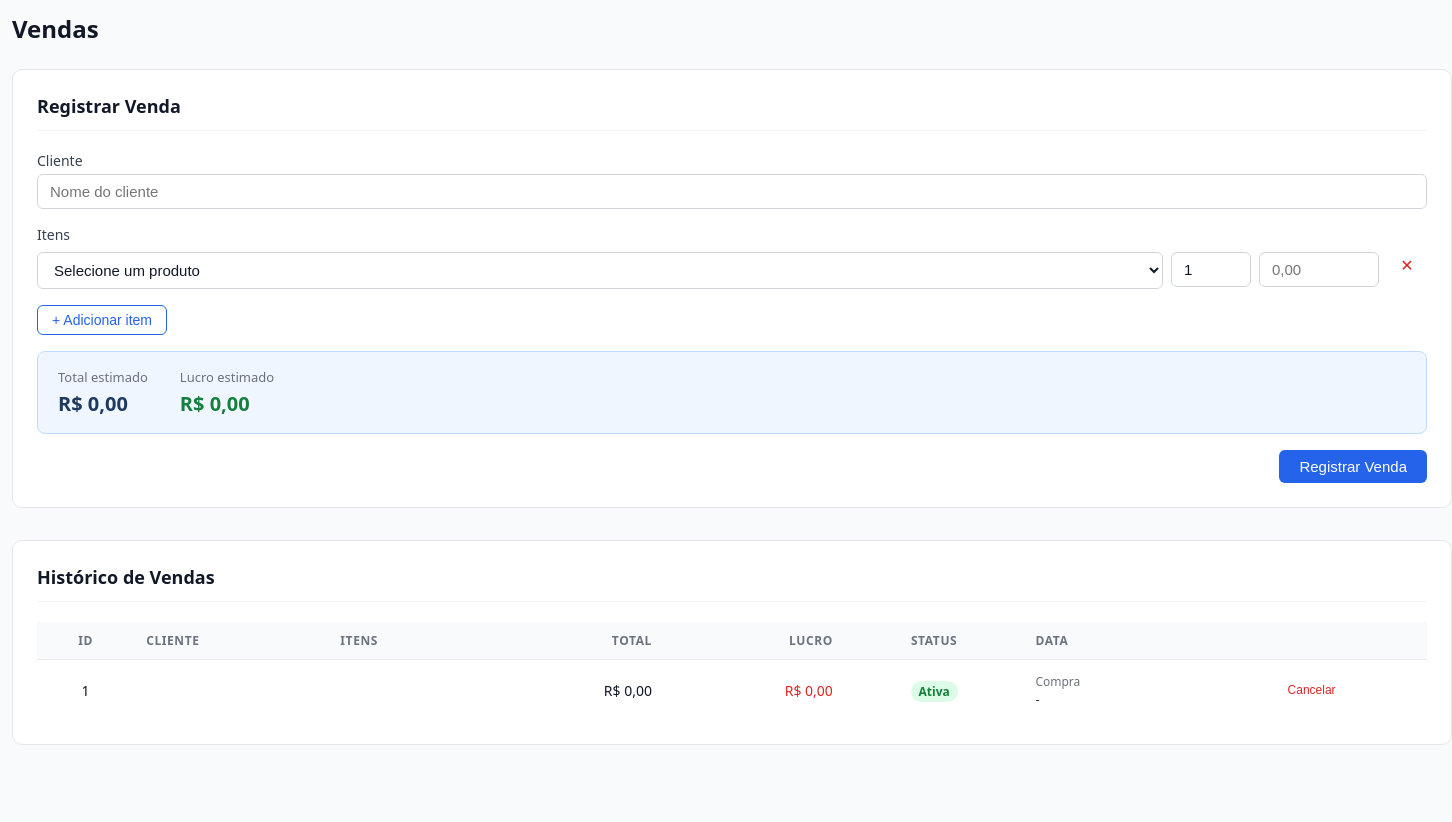
Scenario: VendasView › valida cliente com menos de 2 caracteres antes de submeter
The image size is (1452, 822).
Step 1. Type "A" into the field with test id "input-cliente" → (732, 192), box [37,174,1427,209]
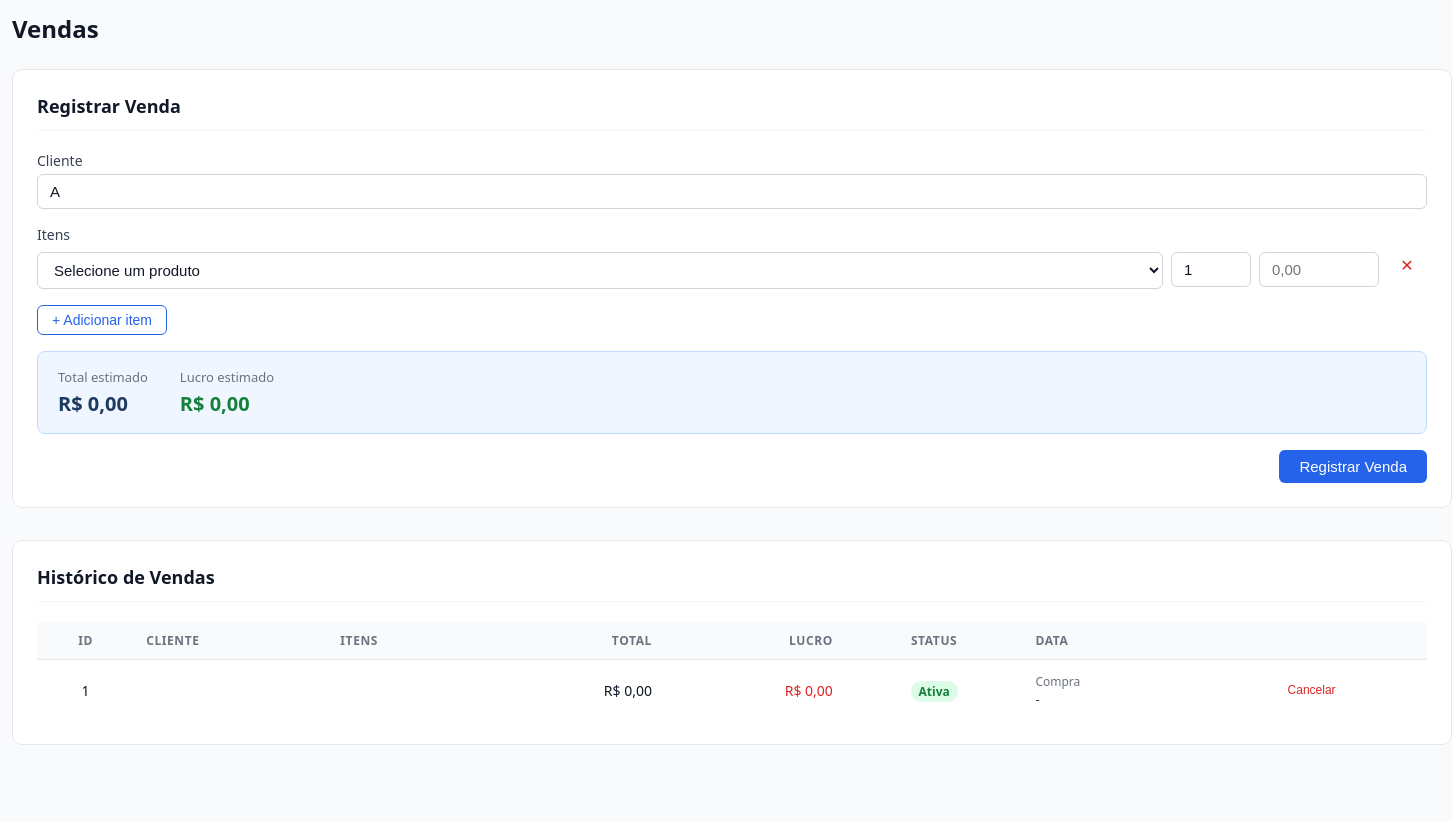
Step 2. Click the button with test id "btn-registrar" → (1353, 466), box [1279,450,1427,483]
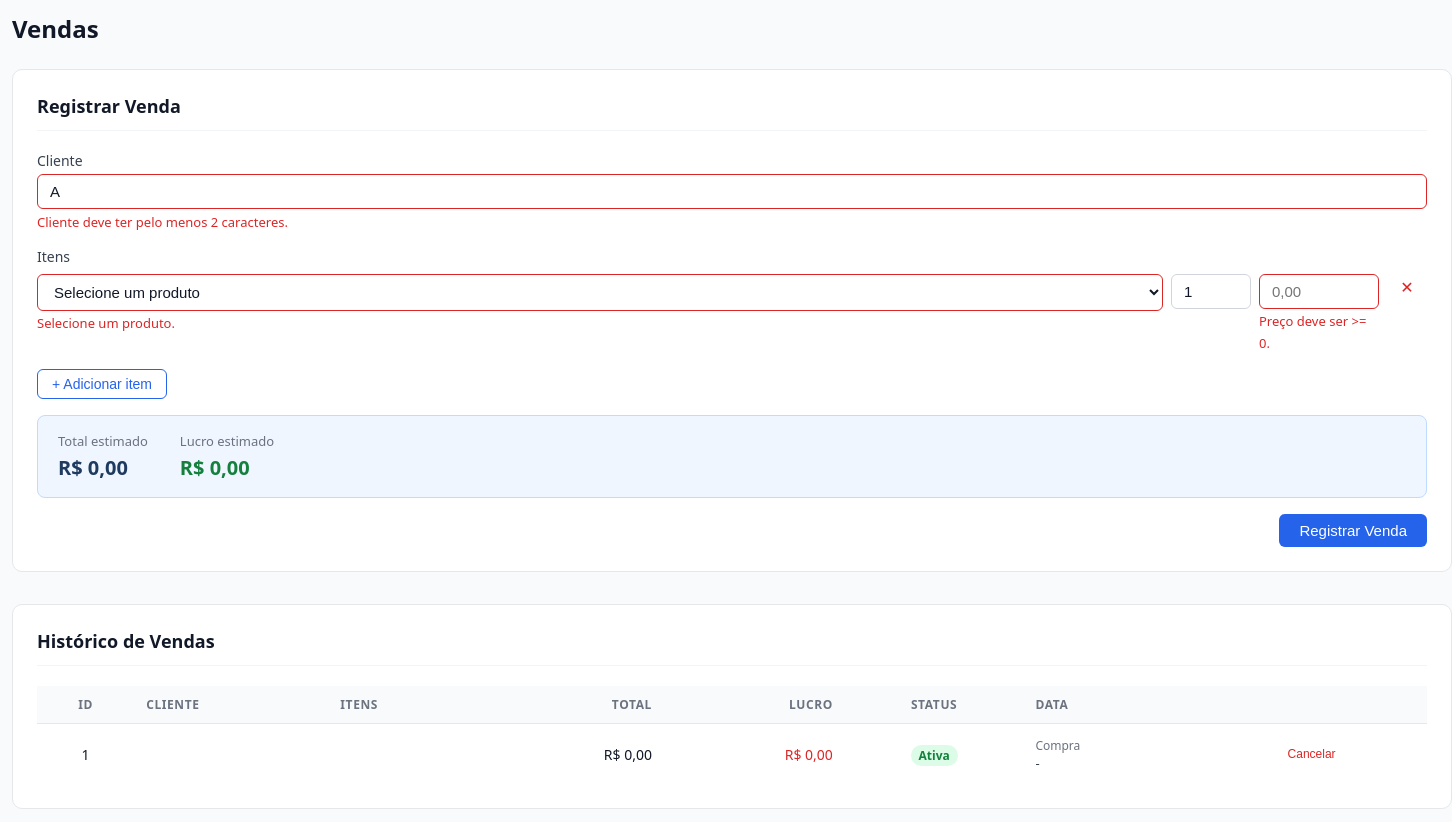
Check: the text "2 caracteres" is shown, box [37,213,288,231]
